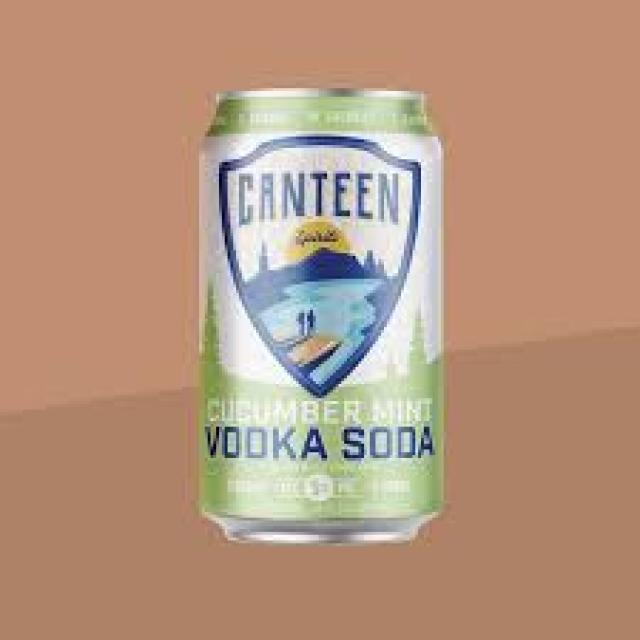Cans: (185, 74, 458, 549)
